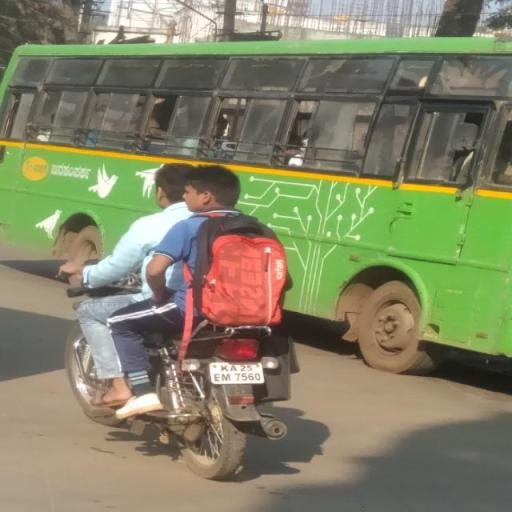bike: (44, 156, 314, 484)
numberplate: (210, 361, 264, 384)
withouthelmet: (189, 167, 238, 211), (154, 166, 188, 204)
